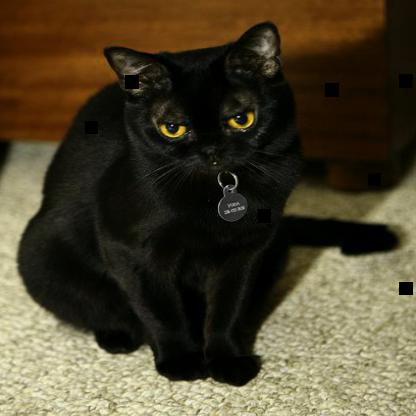cat: (18, 23, 398, 387)
